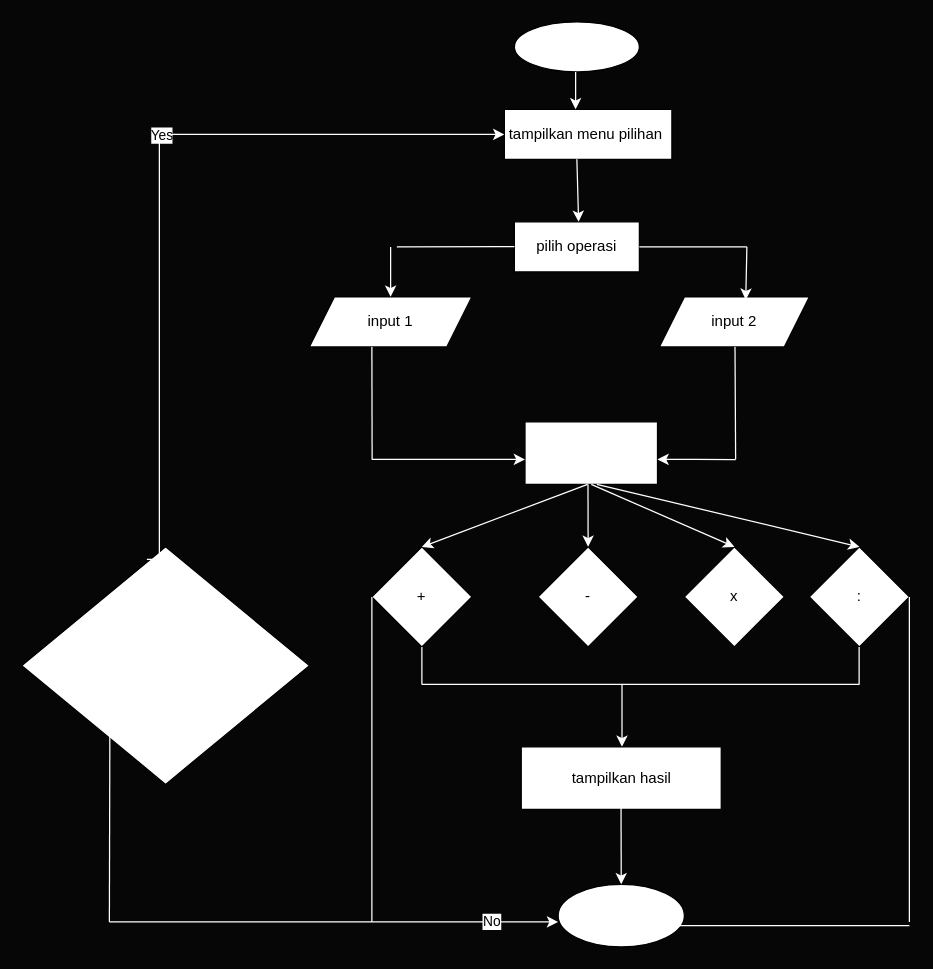
This 933x969 diagram has some shape labels left out. The shapes that lost their labels are listed below. From the top down, each one's centre as x and y in pixels, then its label:
the point at 576,46: Start
the point at 591,452: proses operasi
the point at 165,665: apakah ingin melakukan operasi lain? jawaban YES
the point at 620,915: End
